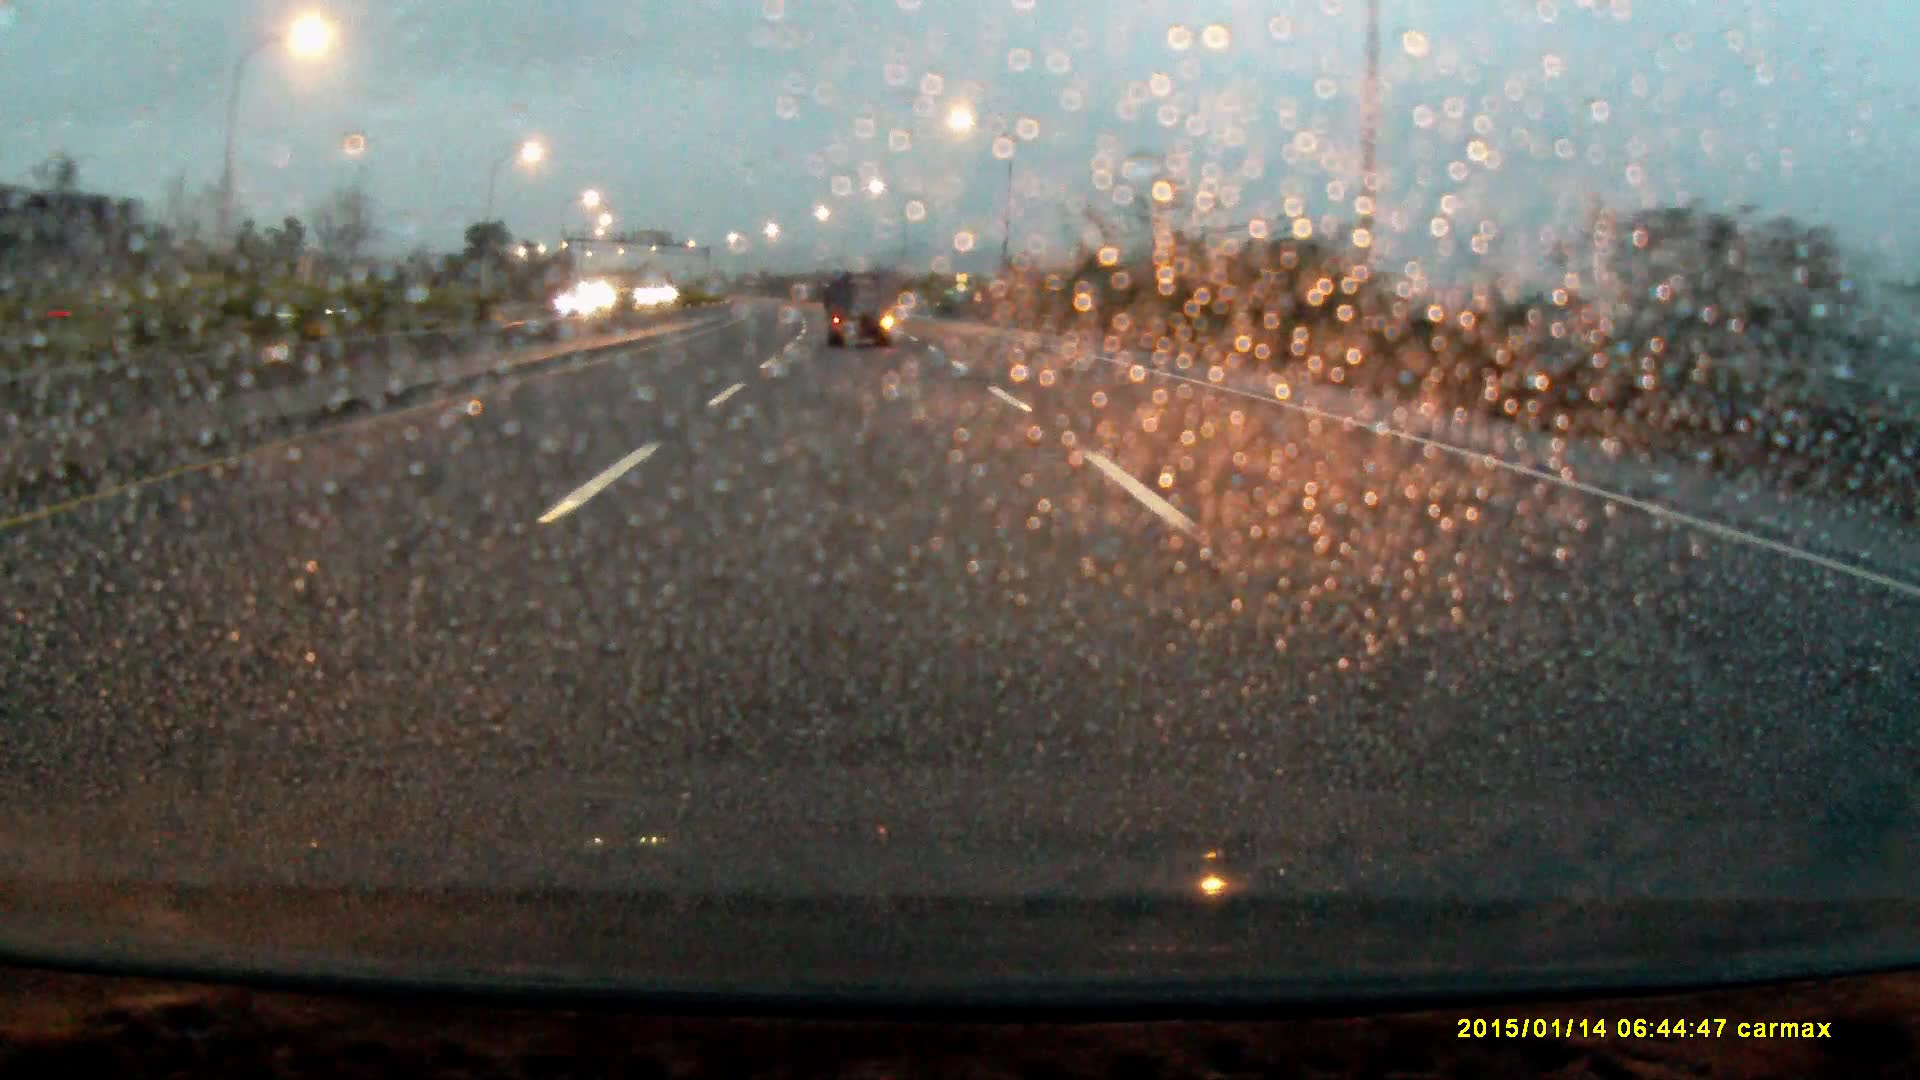vehicle: (825, 277, 897, 349), (560, 289, 615, 315)
